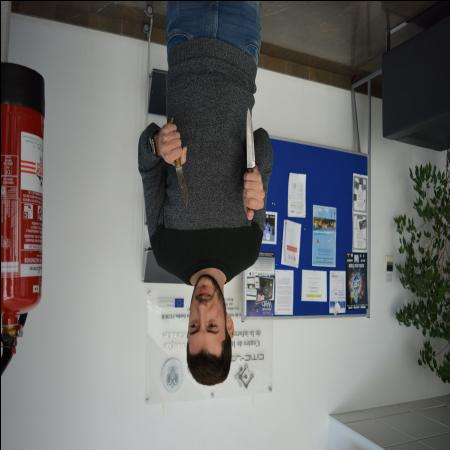long weapon: (166, 116, 190, 208), (241, 104, 256, 177)
